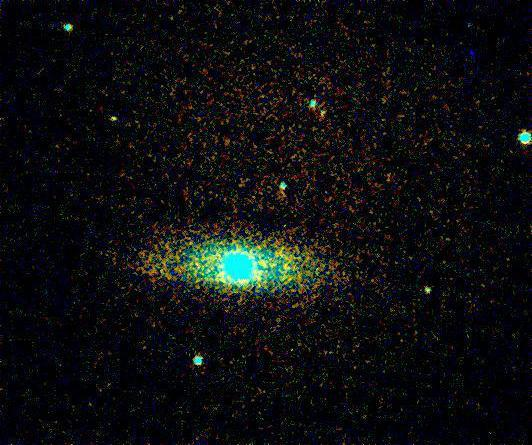star: (98, 103, 128, 133)
